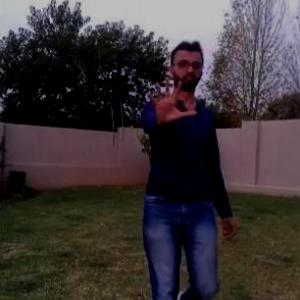follow_hand: (139, 67, 198, 131)
